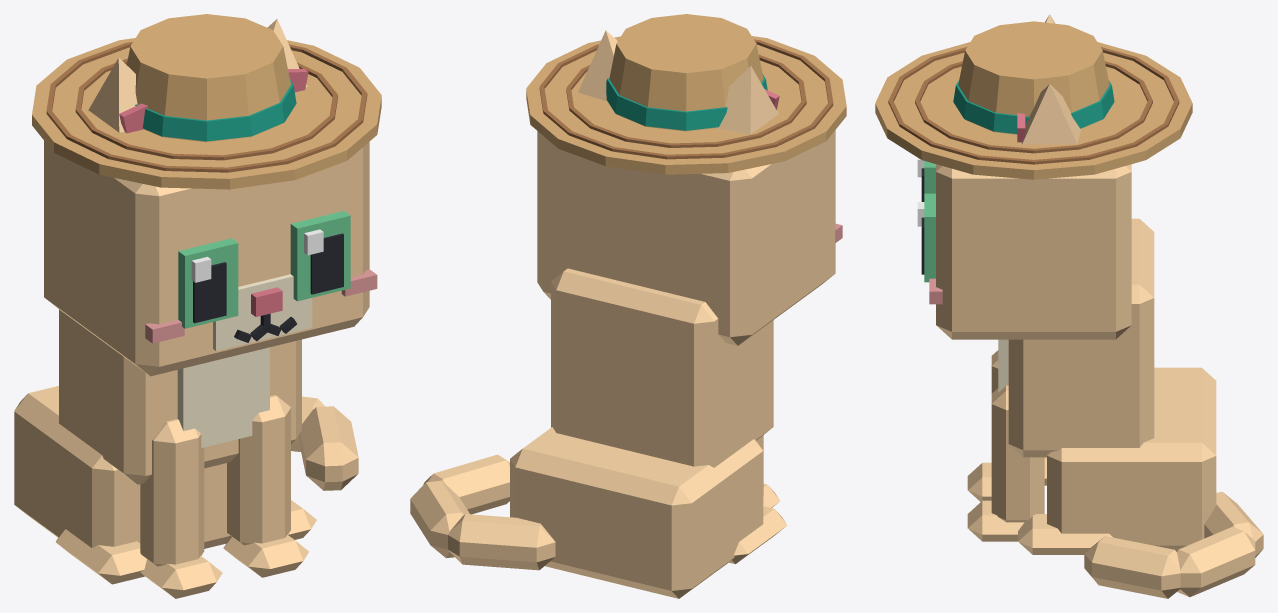
File: CatCafe_Cat_Sandy_Sit.glb
The picture shows the model from 3 angles, left to right: view 1: azimuth 30°, elevation 25°; view 2: azimuth 150°, elevation 25°; view 3: azimuth 270°, elevation 25°; orthographic projection. The views are drawn at different scales.
Visible parts, largest first — view 1: CatCafe_Cat_Sandy_Sit_Head, CatCafe_Cat_Sandy_Sit_Prop, CatCafe_Cat_Sandy_Sit_Body, CatCafe_Cat_Sandy_Sit_LegF2, CatCafe_Cat_Sandy_Sit_LegF1, CatCafe_Cat_Sandy_Sit_Eye2, CatCafe_Cat_Sandy_Sit_Eye1, CatCafe_Cat_Sandy_Sit_Tail, CatCafe_Cat_Sandy_Sit_EarR, CatCafe_Cat_Sandy_Sit_EarL; view 2: CatCafe_Cat_Sandy_Sit_Body, CatCafe_Cat_Sandy_Sit_Head, CatCafe_Cat_Sandy_Sit_Prop, CatCafe_Cat_Sandy_Sit_Tail, CatCafe_Cat_Sandy_Sit_EarR, CatCafe_Cat_Sandy_Sit_EarL; view 3: CatCafe_Cat_Sandy_Sit_Body, CatCafe_Cat_Sandy_Sit_Prop, CatCafe_Cat_Sandy_Sit_Head, CatCafe_Cat_Sandy_Sit_Tail, CatCafe_Cat_Sandy_Sit_LegF1, CatCafe_Cat_Sandy_Sit_EarL, CatCafe_Cat_Sandy_Sit_Eye1, CatCafe_Cat_Sandy_Sit_LegF2, CatCafe_Cat_Sandy_Sit_Eye2.
Part boxes in pixels (x1,y1,x2,y2): CatCafe_Cat_Sandy_Sit_Head: (44, 141, 377, 376); CatCafe_Cat_Sandy_Sit_Prop: (32, 14, 381, 189); CatCafe_Cat_Sandy_Sit_Body: (14, 309, 316, 584); CatCafe_Cat_Sandy_Sit_LegF2: (140, 419, 222, 598); CatCafe_Cat_Sandy_Sit_LegF1: (223, 395, 308, 577); CatCafe_Cat_Sandy_Sit_Eye2: (178, 238, 238, 328); CatCafe_Cat_Sandy_Sit_Eye1: (290, 211, 350, 301); CatCafe_Cat_Sandy_Sit_Tail: (291, 396, 358, 490); CatCafe_Cat_Sandy_Sit_EarR: (88, 57, 147, 133); CatCafe_Cat_Sandy_Sit_EarL: (267, 19, 308, 92); CatCafe_Cat_Sandy_Sit_Body: (510, 268, 787, 598); CatCafe_Cat_Sandy_Sit_Head: (537, 130, 842, 345); CatCafe_Cat_Sandy_Sit_Prop: (526, 14, 846, 174); CatCafe_Cat_Sandy_Sit_Tail: (410, 454, 555, 570); CatCafe_Cat_Sandy_Sit_EarR: (716, 66, 779, 134); CatCafe_Cat_Sandy_Sit_EarL: (578, 30, 617, 101); CatCafe_Cat_Sandy_Sit_Body: (998, 218, 1216, 554); CatCafe_Cat_Sandy_Sit_Prop: (875, 21, 1192, 179); CatCafe_Cat_Sandy_Sit_Head: (929, 164, 1131, 339); CatCafe_Cat_Sandy_Sit_Tail: (1084, 492, 1263, 598); CatCafe_Cat_Sandy_Sit_LegF1: (967, 385, 1044, 541); CatCafe_Cat_Sandy_Sit_EarL: (1017, 84, 1081, 144); CatCafe_Cat_Sandy_Sit_Eye1: (917, 193, 935, 282); CatCafe_Cat_Sandy_Sit_LegF2: (967, 350, 998, 501); CatCafe_Cat_Sandy_Sit_Eye2: (917, 158, 935, 201).
Bounding box in the file's own units: 1.37 × 1.85 × 1.4.
Materials: 1 (1 with a texture image).
